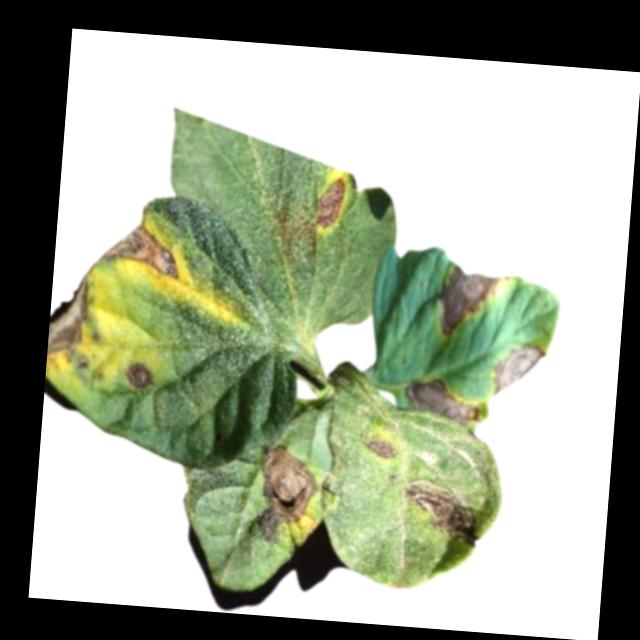Early_blight: (47, 216, 186, 362), (253, 442, 325, 547), (399, 474, 482, 545), (436, 261, 503, 340), (405, 375, 485, 426), (492, 339, 550, 399), (312, 176, 348, 230), (125, 358, 157, 391), (368, 433, 400, 459)
